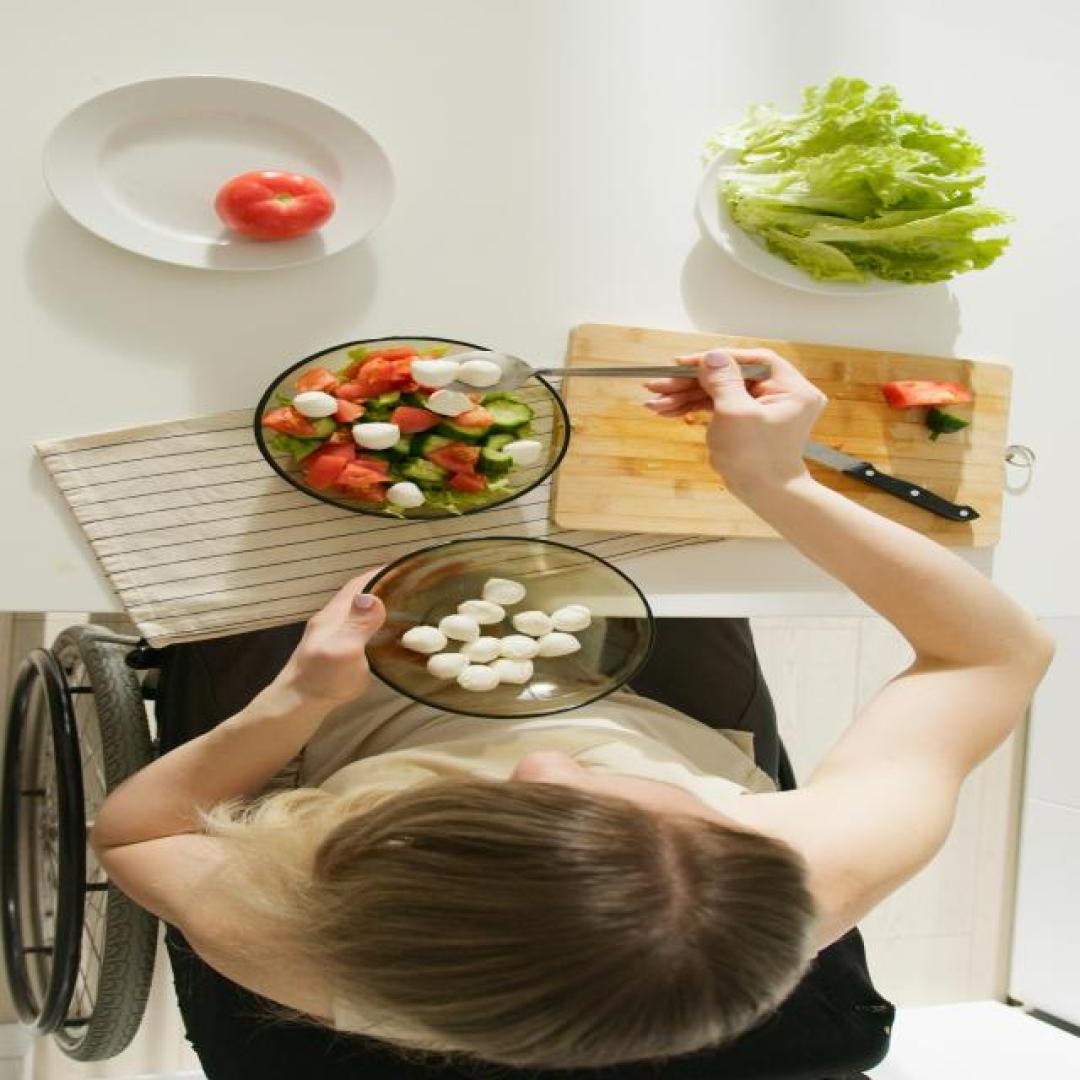matang: (214, 170, 338, 243)
